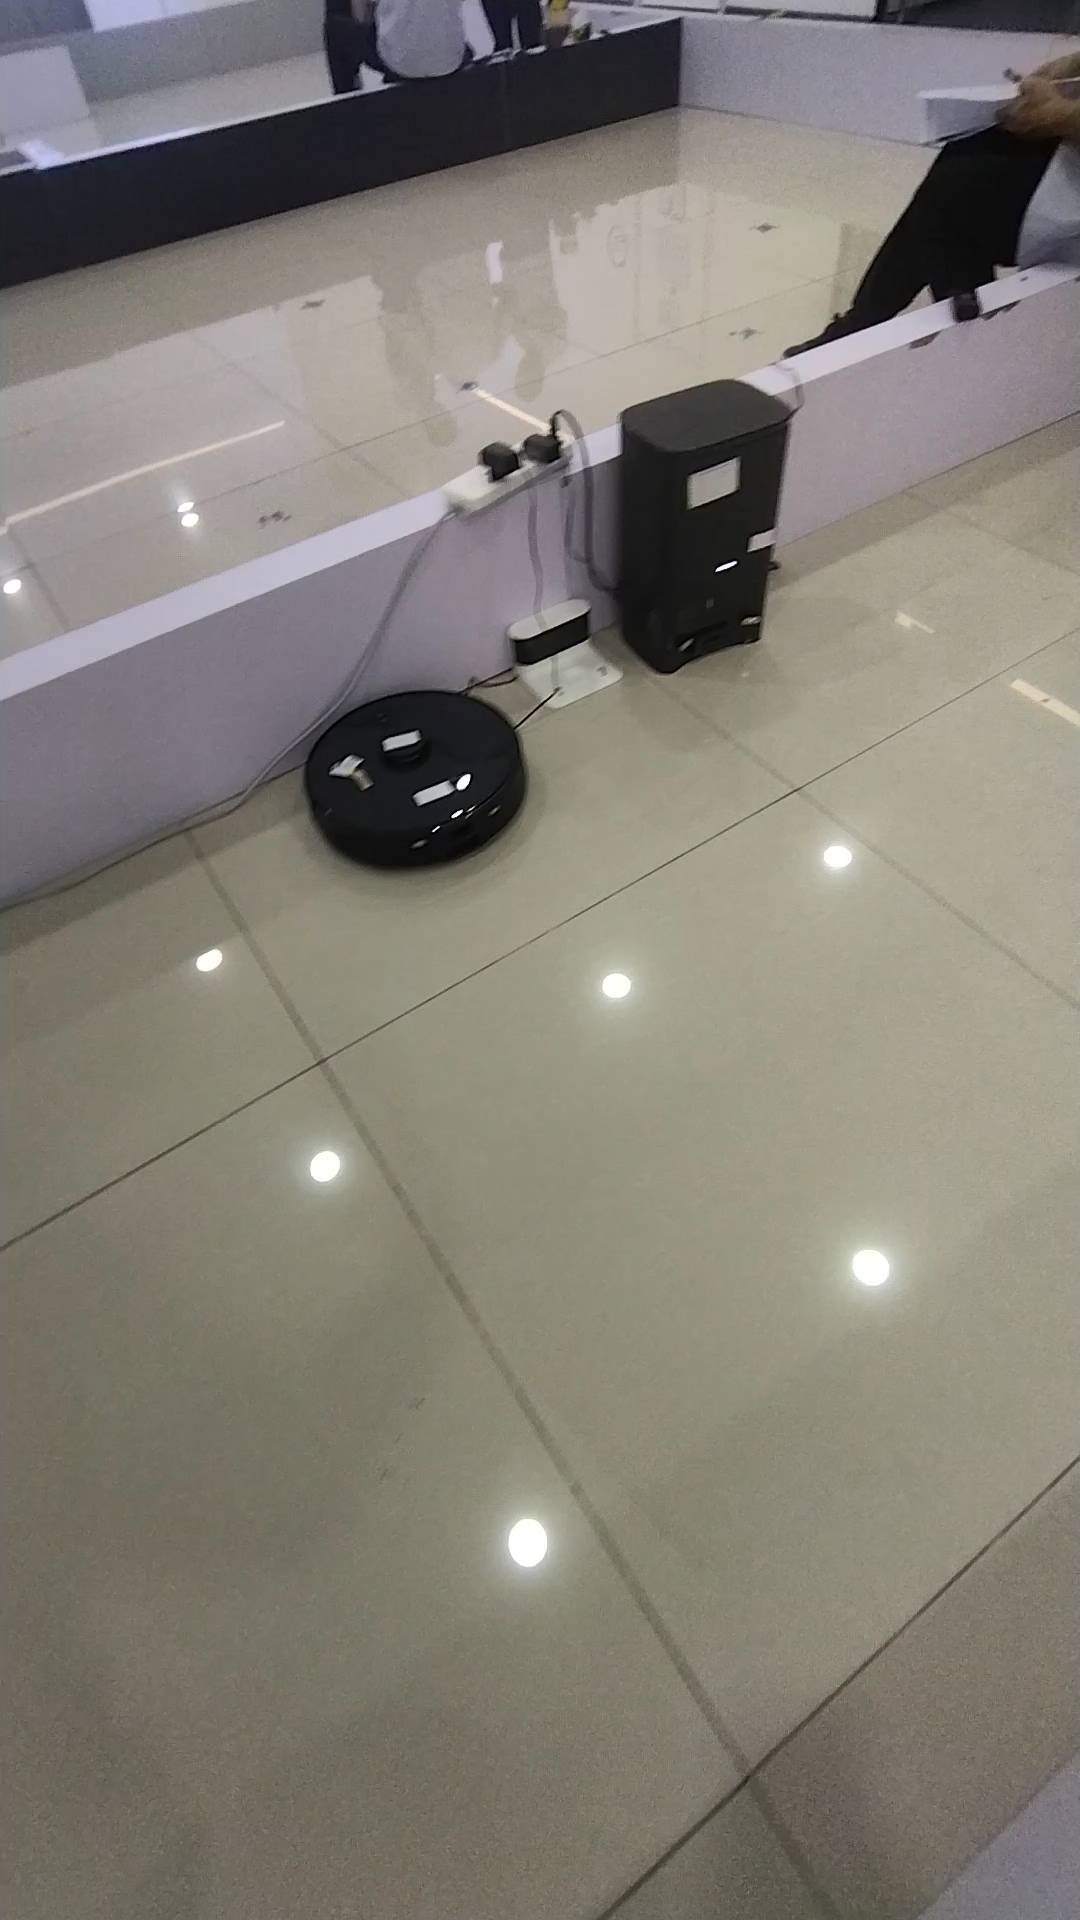dust collecting barrel: (622, 378, 793, 671)
recharge seat: (505, 597, 624, 711)
